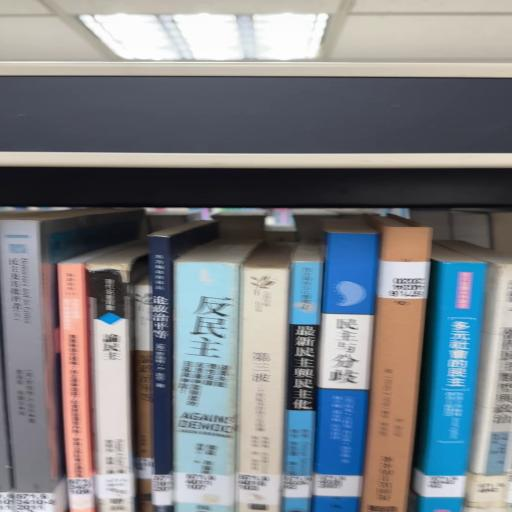book: (173, 239, 259, 512), (313, 217, 380, 512), (57, 244, 128, 512), (236, 244, 294, 512)
reverse: (360, 215, 432, 512)
